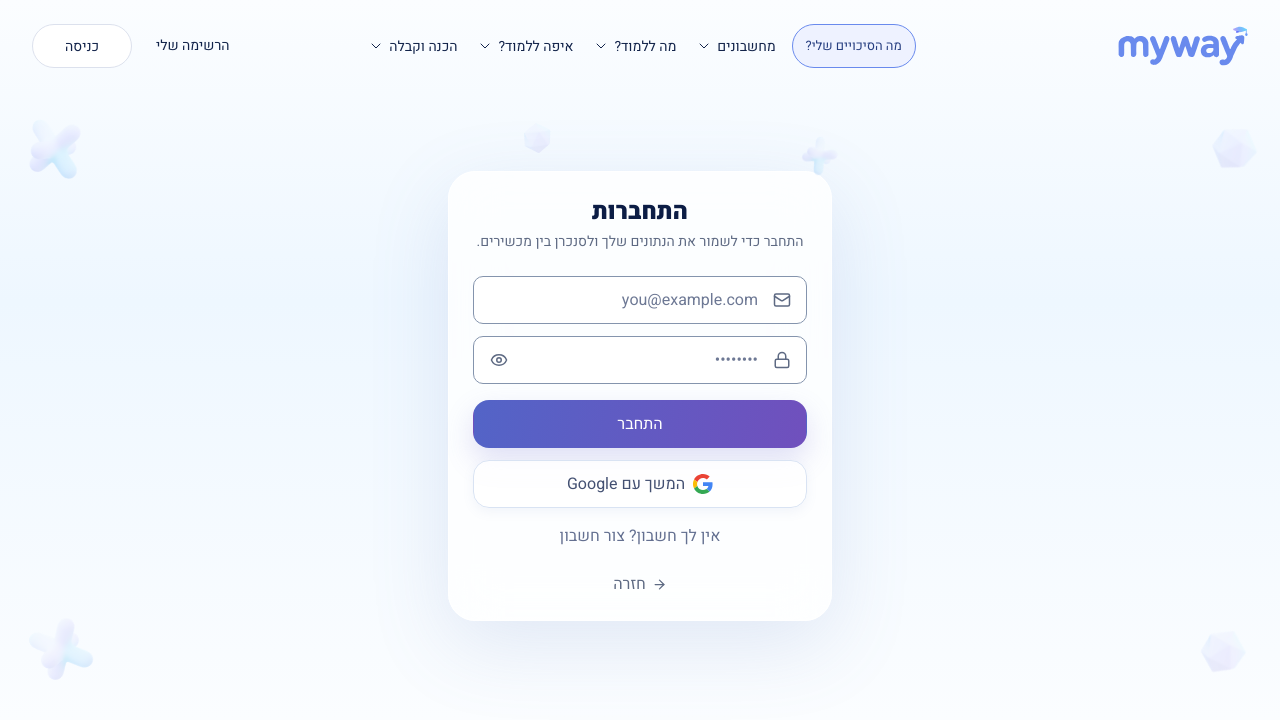
Test case: AuthScreen › clears stale feedback when switching between login and signup
Click the button "אין לך חשבון? צור חשבון" at (640, 536), box left=473, top=524, right=807, bottom=548
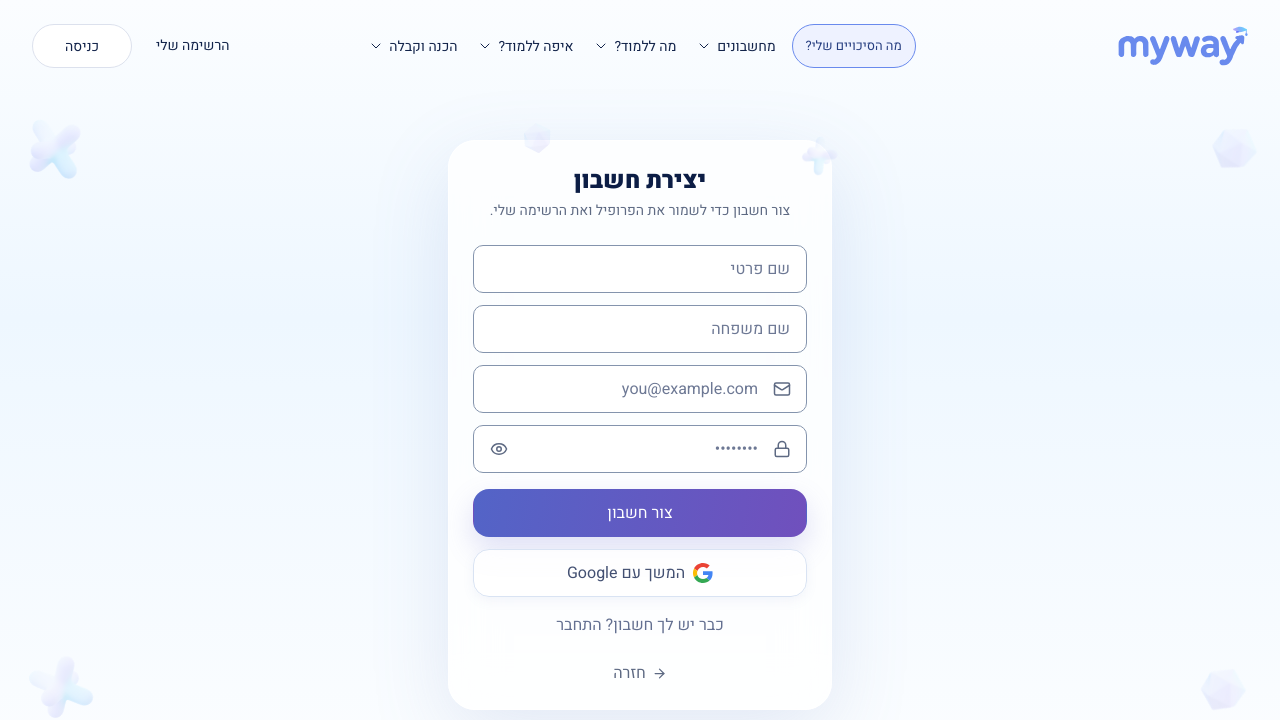
Type "מלי" into the field with placeholder "שם פרטי" at (640, 269), box left=473, top=245, right=807, bottom=293
Type "כהן" into the field with placeholder "שם משפחה" at (640, 329), box left=473, top=305, right=807, bottom=353
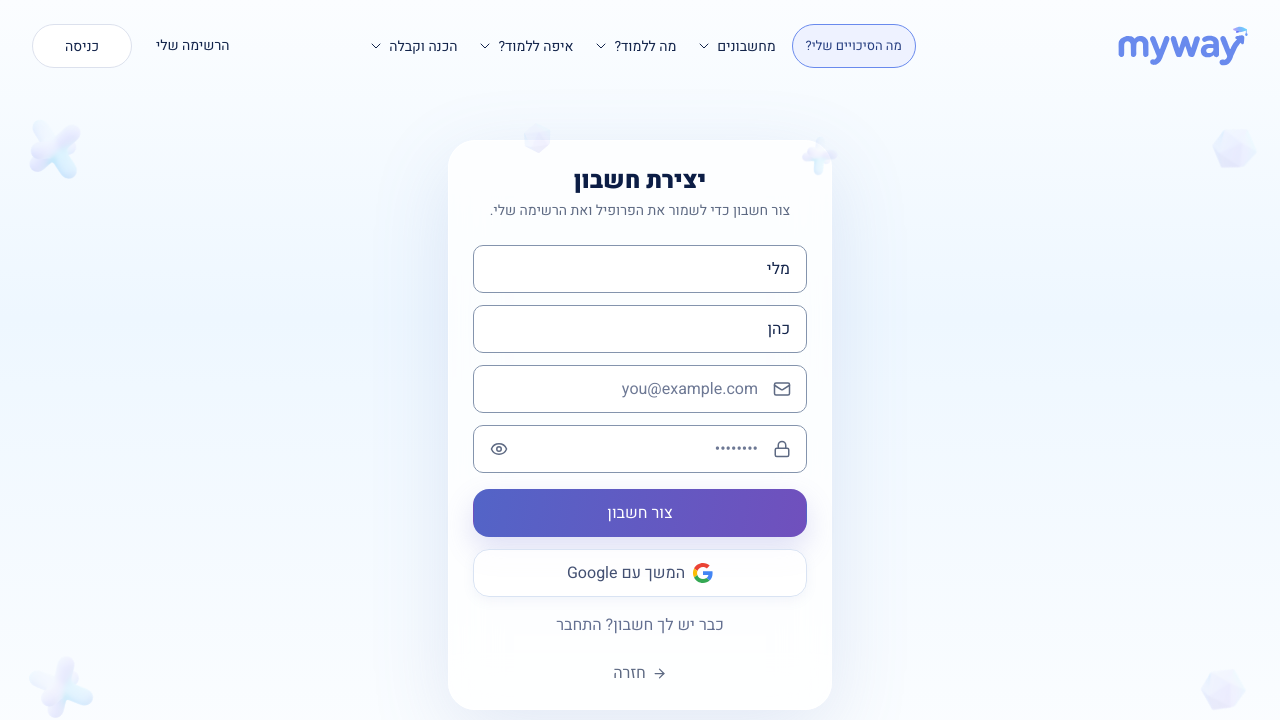
Type "user@example.com" into the field with placeholder "you@example.com" at (640, 389), box left=473, top=365, right=807, bottom=413
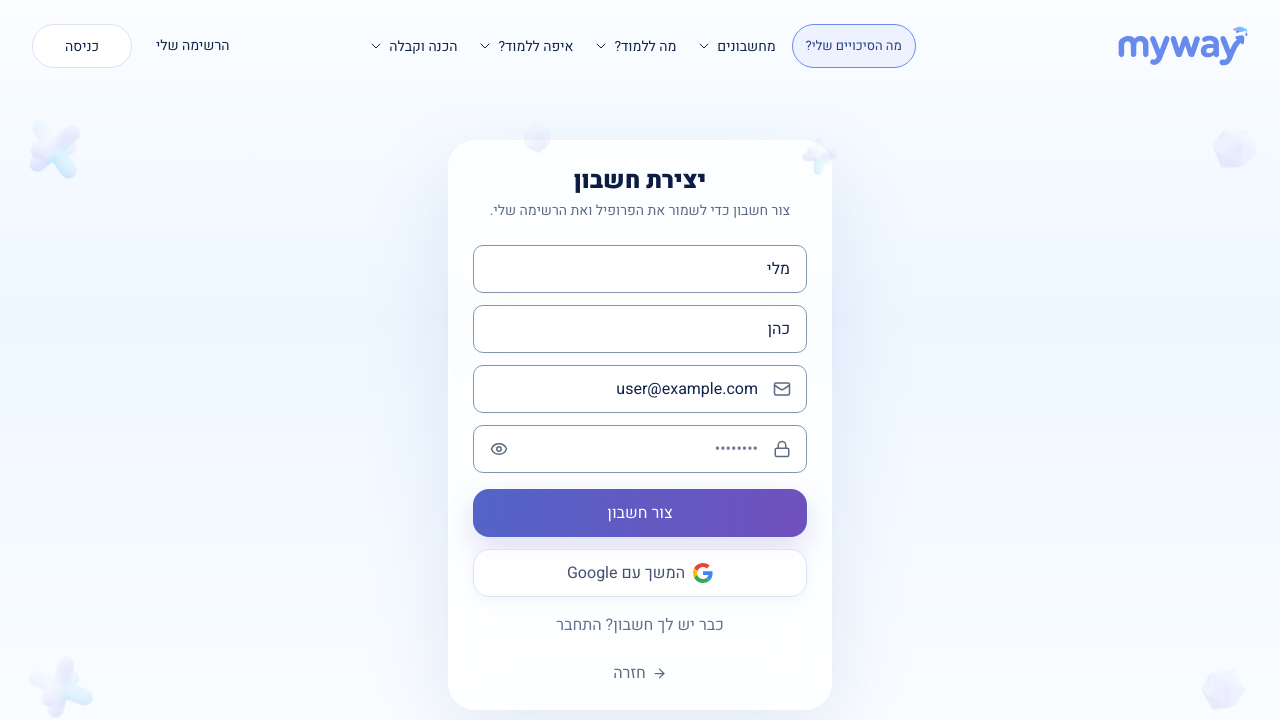
Type "secret123" into the password field with placeholder "••••••••" at (640, 449), box left=473, top=425, right=807, bottom=473
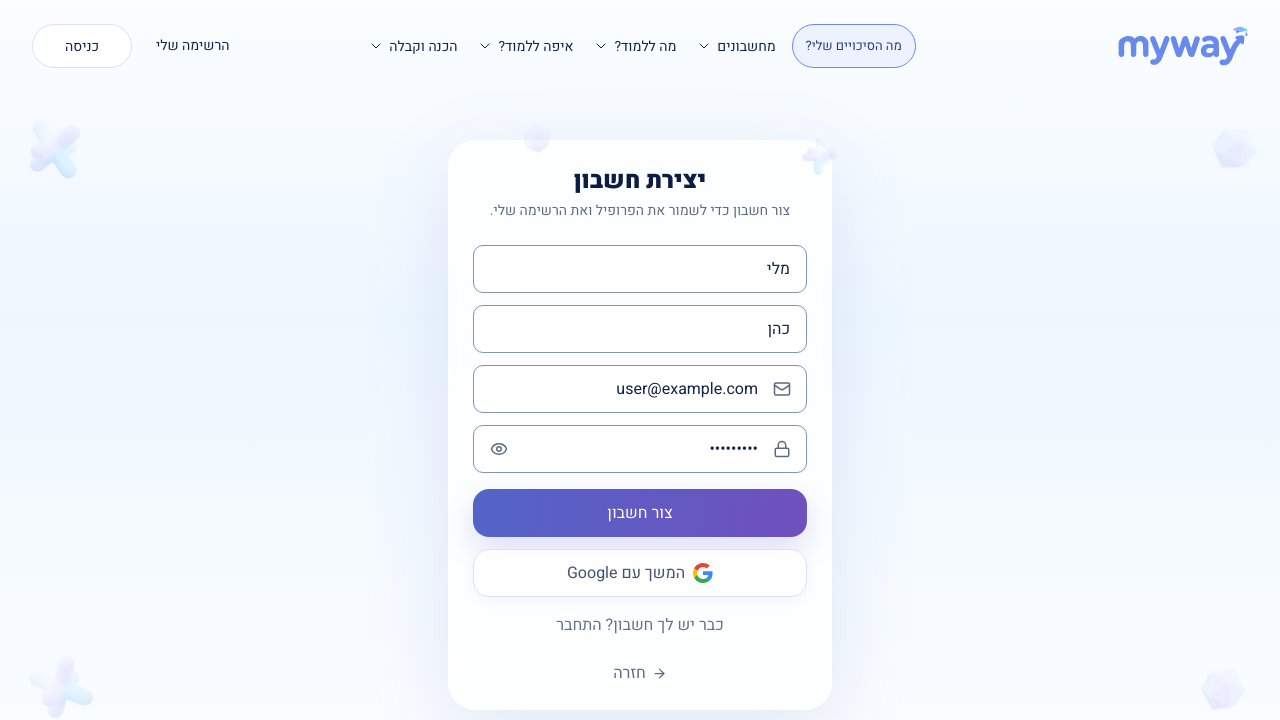
Click the button "צור חשבון" at (640, 513), box left=473, top=489, right=807, bottom=537
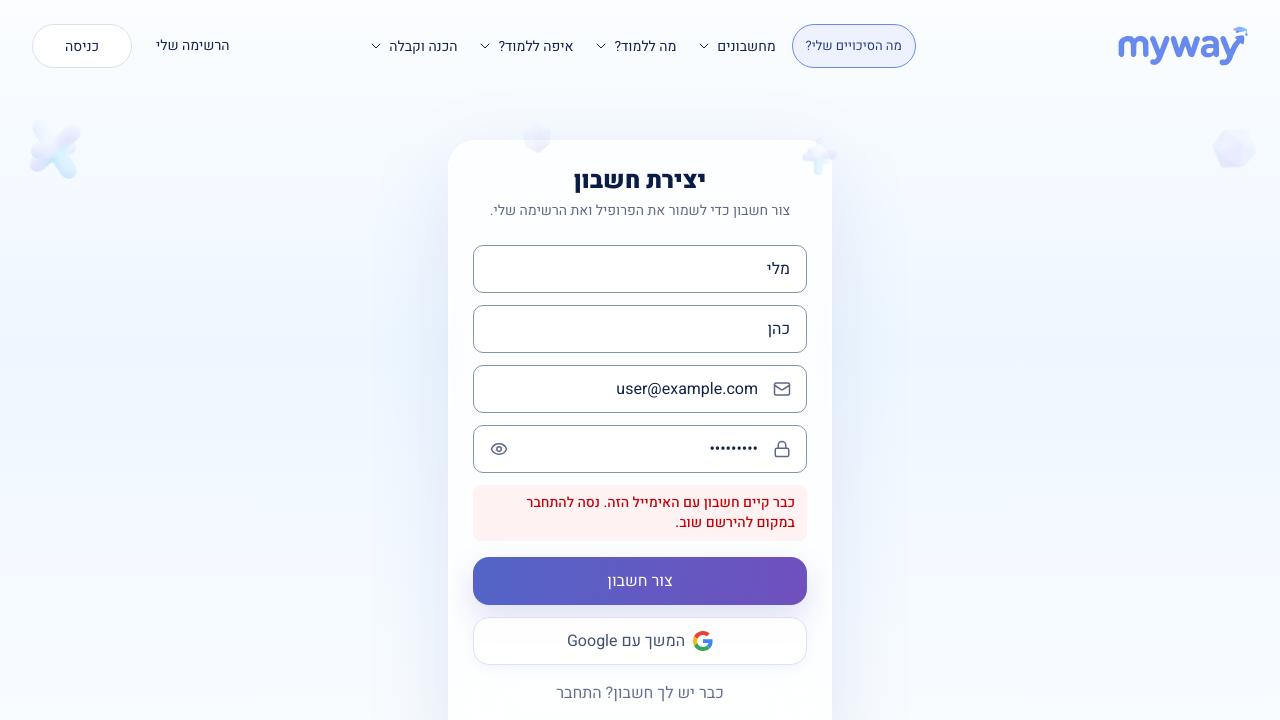
Now the text "כבר קיים חשבון עם האימייל הזה. נסה להתחבר במקום להירשם שוב." is shown, box left=473, top=485, right=807, bottom=541
Click the button "כבר יש לך חשבון? התחבר" at (640, 693), box left=473, top=681, right=807, bottom=705
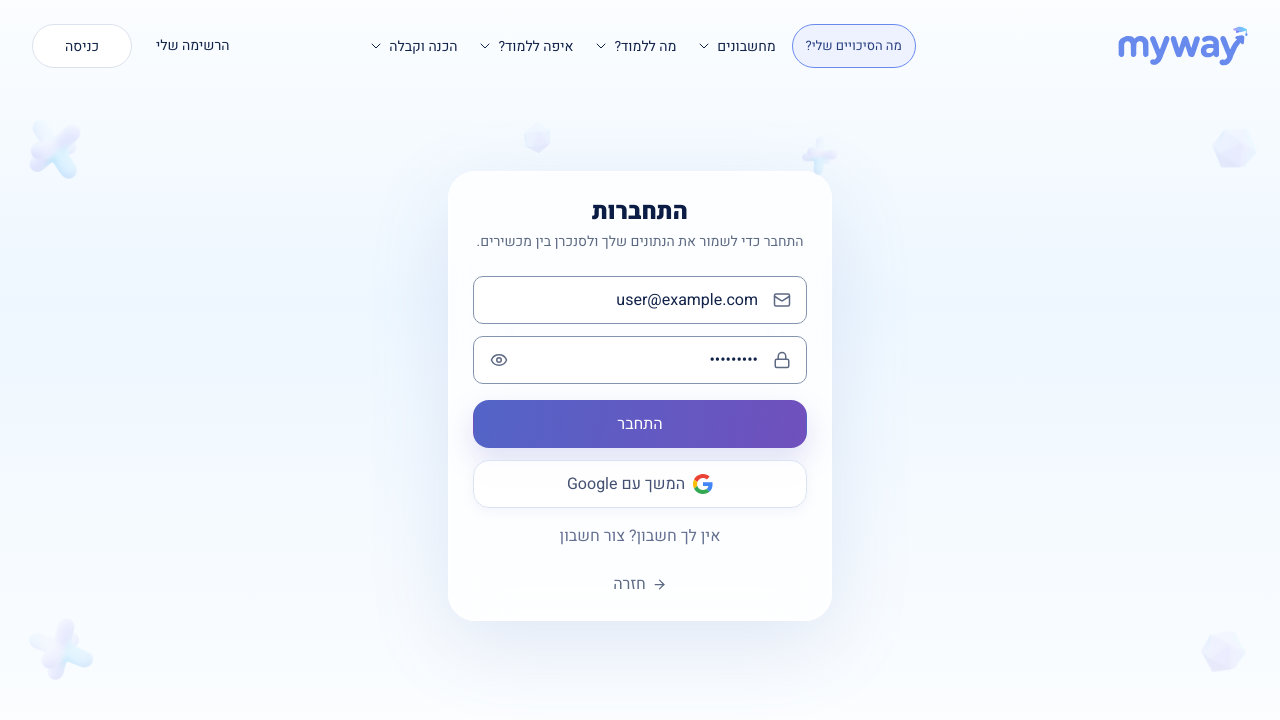
Now the text "כבר קיים חשבון עם האימייל הזה. נסה להתחבר במקום להירשם שוב." is gone
